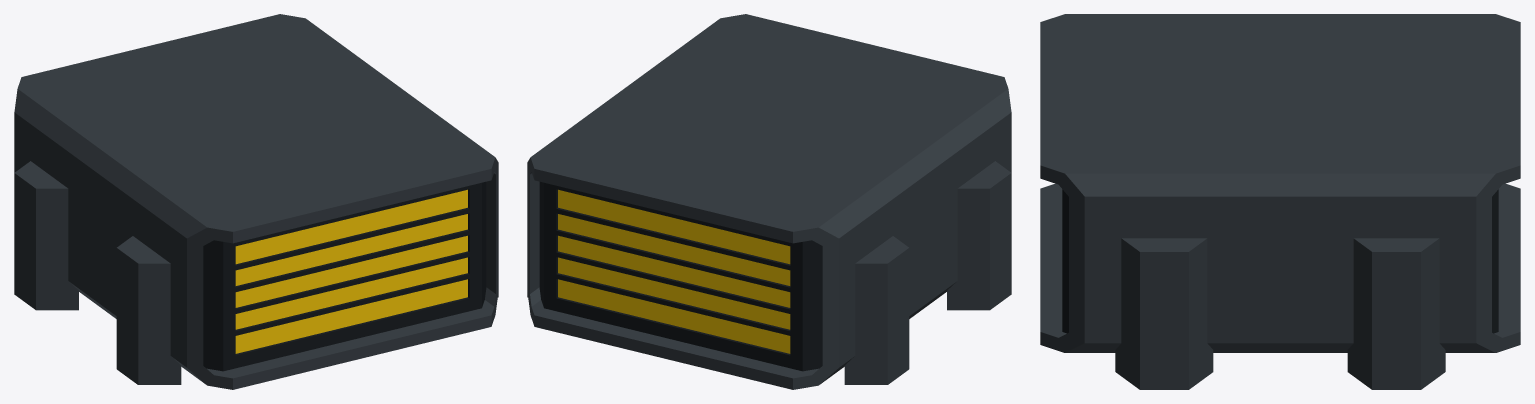
File: prop22.FBX
The picture shows the model from 3 angles, left to right: view 1: azimuth 30°, elevation 25°; view 2: azimuth 150°, elevation 25°; view 3: azimuth 270°, elevation 25°; orthographic projection. The views are drawn at different scales.
Visible parts, largest first — view 1: prop22_body, prop22_gauge; view 2: prop22_body, prop22_gauge; view 3: prop22_body.
Part boxes in pixels (x1,y1,x2,y2): prop22_body: (14,14,498,389); prop22_gauge: (235,189,467,353); prop22_body: (527,14,1011,389); prop22_gauge: (558,189,790,353); prop22_body: (1040,14,1520,389).
Size of the model in its own units: 7.2 by 3.3 by 7.32.
